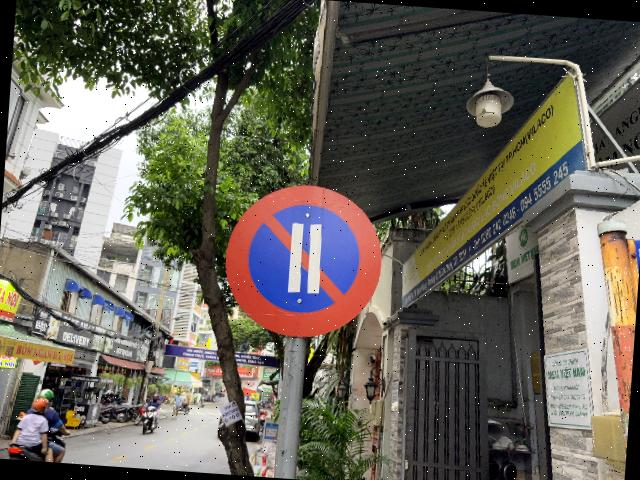cam-do-xe-ngay-chan: (220, 178, 387, 344)
